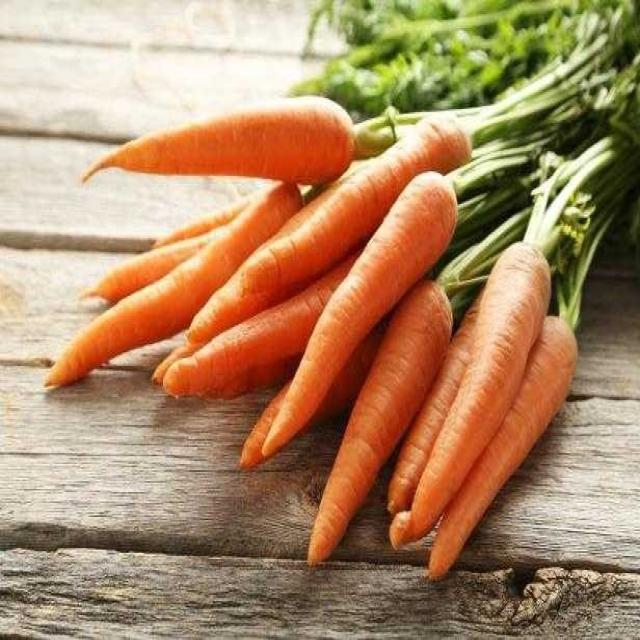faulty: (413, 243, 575, 578), (200, 135, 448, 330), (86, 101, 360, 196)
